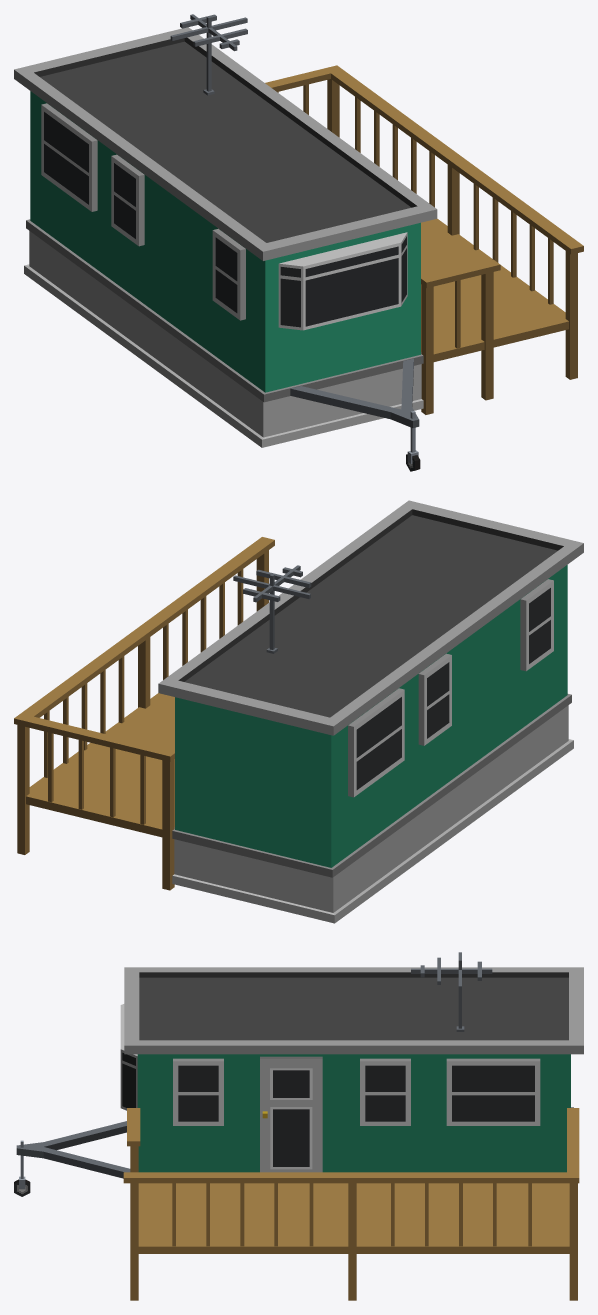
The model's file is SA_Bld_Trailer_02.gltf.
3 renders of one model, top to bottom at view 1: azimuth 30°, elevation 25°; view 2: azimuth 150°, elevation 25°; view 3: azimuth 270°, elevation 25°, orthographic. The views are drawn at different scales.
Visible parts, largest first — view 1: SA_Bld_Trailer_02; view 2: SA_Bld_Trailer_02; view 3: SA_Bld_Trailer_02.
Boxes of the visible parts, box(x1,y1,x2,y2) form: SA_Bld_Trailer_02: box(14, 14, 583, 471); SA_Bld_Trailer_02: box(14, 500, 583, 923); SA_Bld_Trailer_02: box(14, 952, 583, 1300).
Bounding box in the file's own units: 8.85 × 7.29 × 14.77.
1 material, 1 textured.
